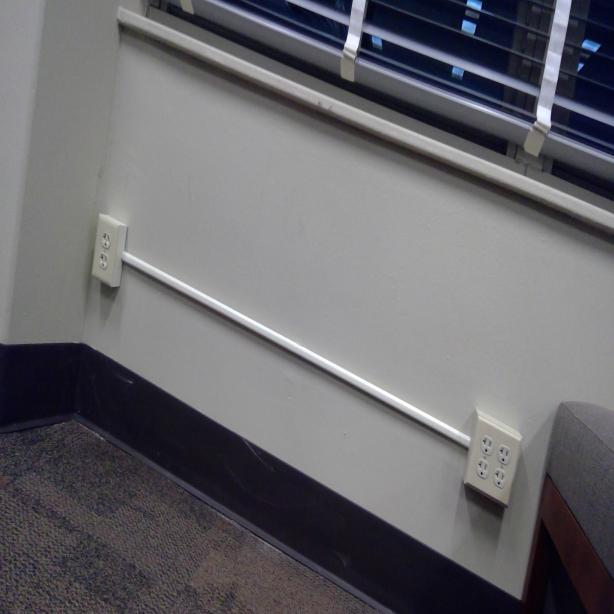typeb: (497, 444, 511, 465), (476, 457, 489, 478), (480, 436, 492, 456), (494, 469, 506, 488), (102, 231, 111, 248), (99, 254, 107, 270)
